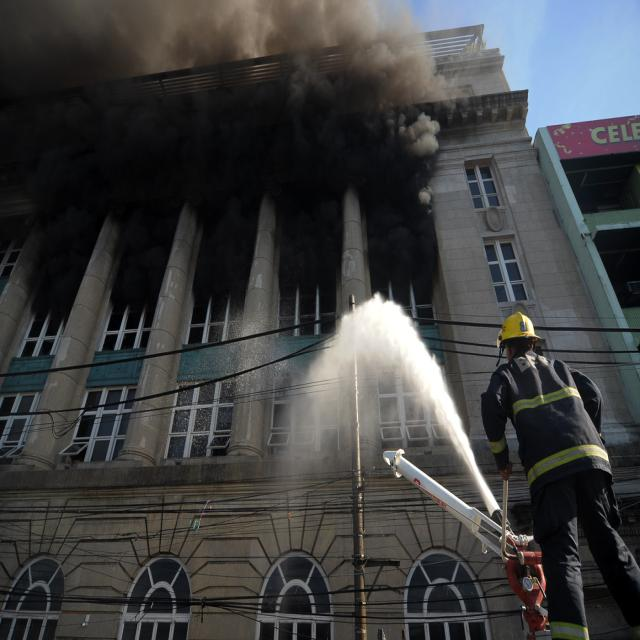smoke: (6, 6, 418, 193)
